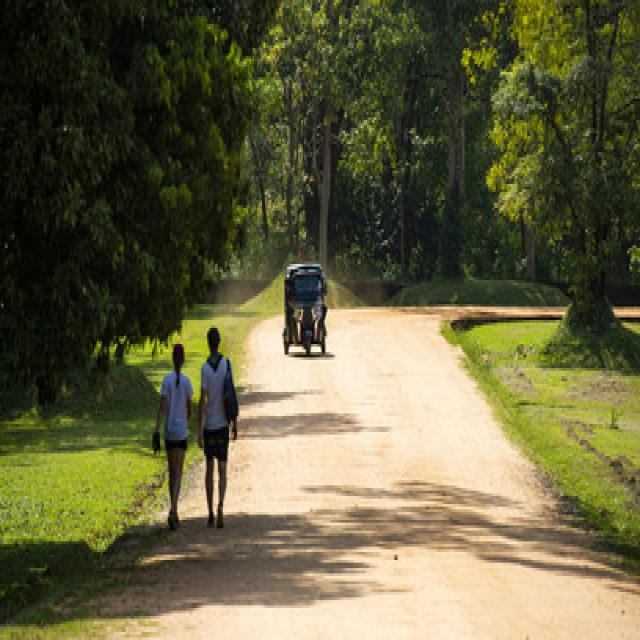person: (198, 325, 237, 525), (155, 344, 191, 528)
three wheeler: (284, 261, 325, 355)
